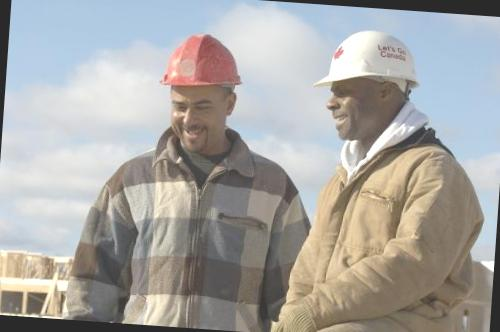person: (70, 21, 317, 332), (283, 24, 495, 332)
